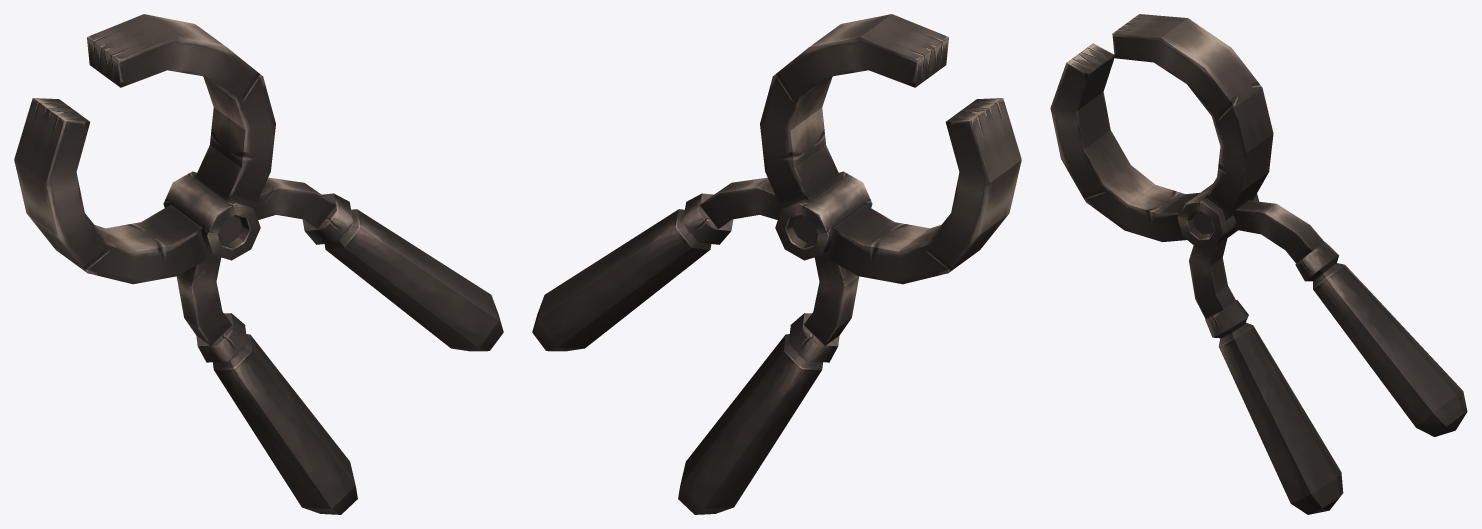
File: 99_tongs.FBX
3 renders of one model, left to right at view 1: azimuth 30°, elevation 25°; view 2: azimuth 150°, elevation 25°; view 3: azimuth 330°, elevation 25°, orthographic. The views are drawn at different scales.
Parts seen in each view (by area): view 1: Box026; view 2: Box026; view 3: Box026.
Boxes of the visible parts, box(x1,y1,x2,y2) form: Box026: box(14, 14, 503, 514); Box026: box(532, 14, 1021, 514); Box026: box(1050, 14, 1467, 514).
Bounding box in the file's own units: 48.74 × 52.44 × 7.93.
